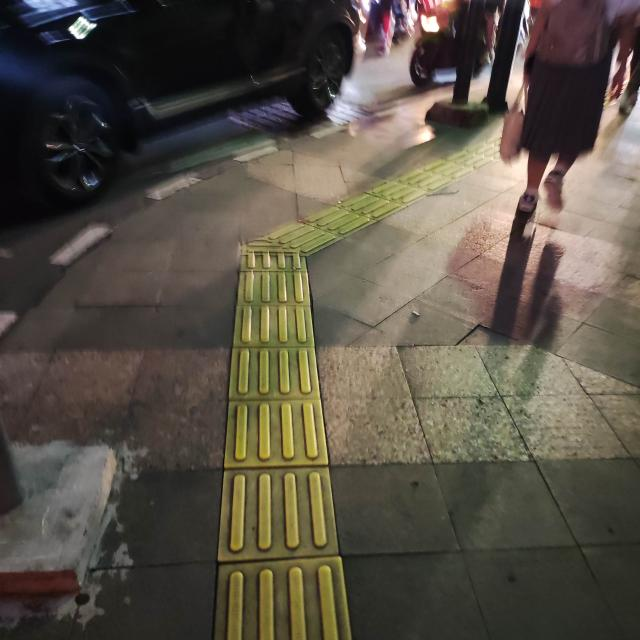lurus: (201, 253, 373, 640)
